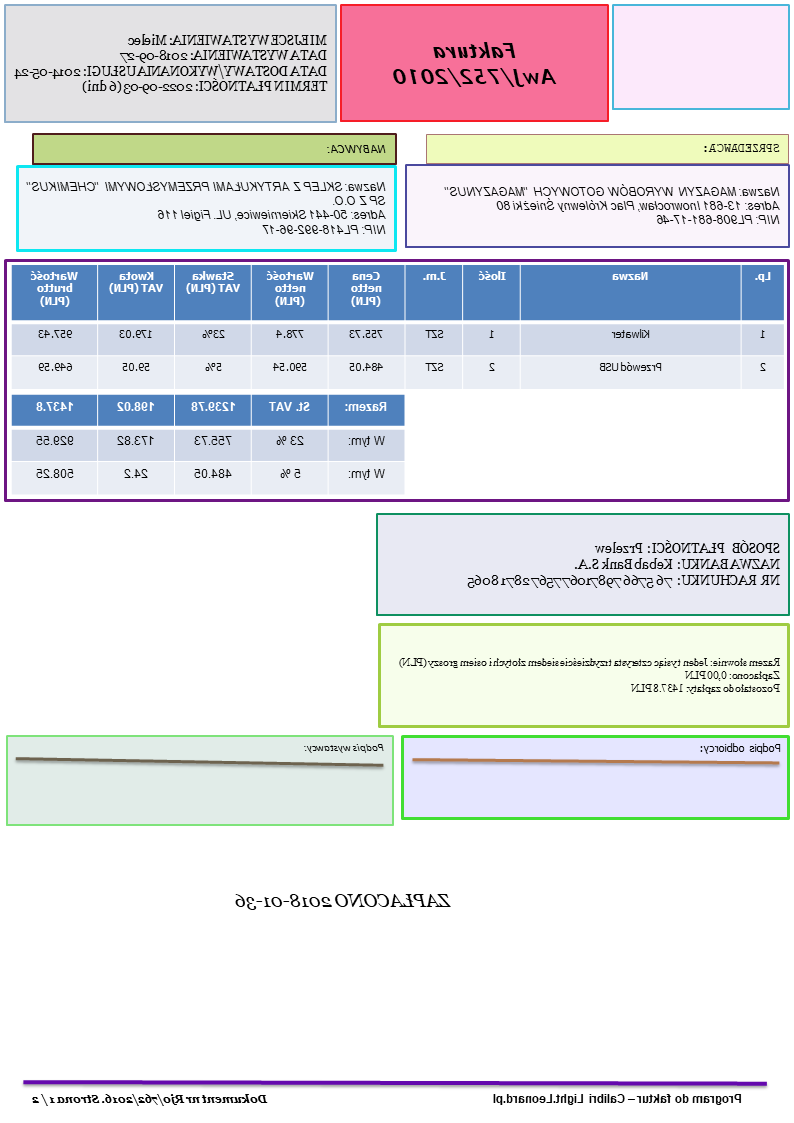Table: (11, 264, 785, 390), (10, 392, 407, 496)
TextBox: (24, 177, 390, 237), (12, 29, 329, 97), (466, 534, 782, 592), (396, 654, 782, 697), (441, 182, 782, 228), (388, 37, 560, 91), (229, 888, 455, 912), (490, 1088, 745, 1108), (29, 1088, 269, 1109), (698, 736, 783, 756), (702, 137, 783, 156), (305, 738, 388, 755), (326, 138, 390, 156)
